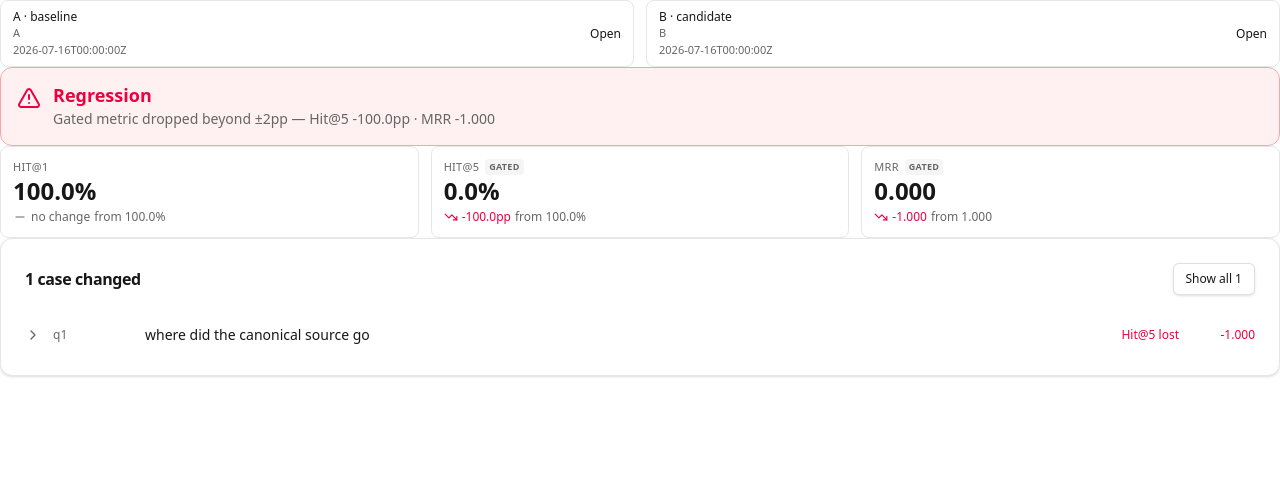
EvalCompareResults › shows a flipped case and reveals its rank shift on expand
Expected: the text "Hit@5 lost" is shown, [1122,327,1179,343]
What coordinates should you click on to do the following:
click the button "q1 where did the canonical source go Hit@5 lost -1.000"
I would click on:
 (257, 334)
Its box is [25,315,1255,355].
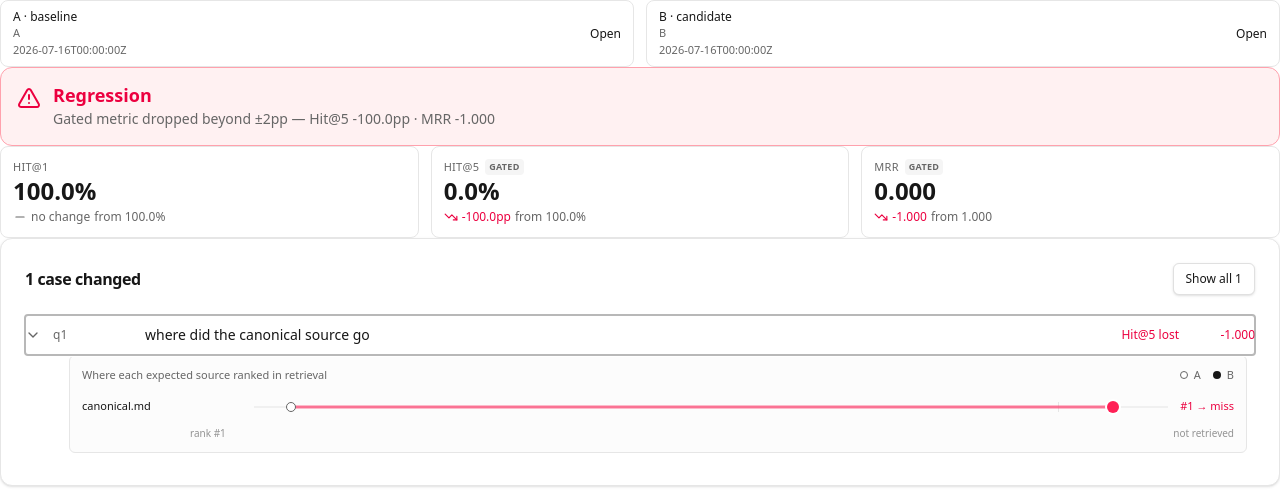
Expected: the text "#1 → miss" is shown, [1180,399,1234,414]
